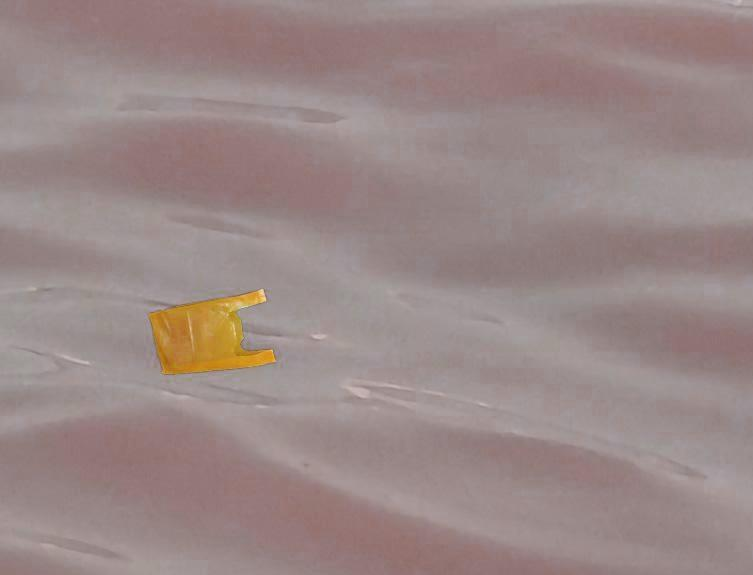Trash: (147, 287, 281, 377)
